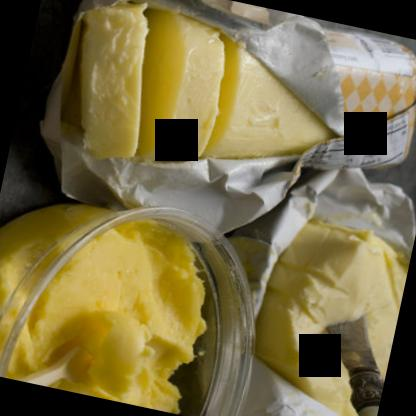butter: (67, 0, 415, 217), (0, 197, 225, 415), (243, 210, 414, 415)
